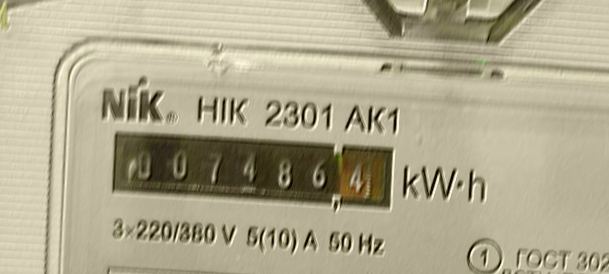0: (132, 147, 154, 182), (169, 147, 189, 181)
4: (238, 148, 258, 184), (345, 159, 364, 194)
6: (308, 157, 329, 190)
7: (201, 150, 225, 184)
8: (274, 156, 293, 192)
screen: (100, 120, 403, 221)
